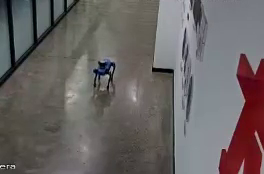robot dog: (91, 57, 117, 93)
